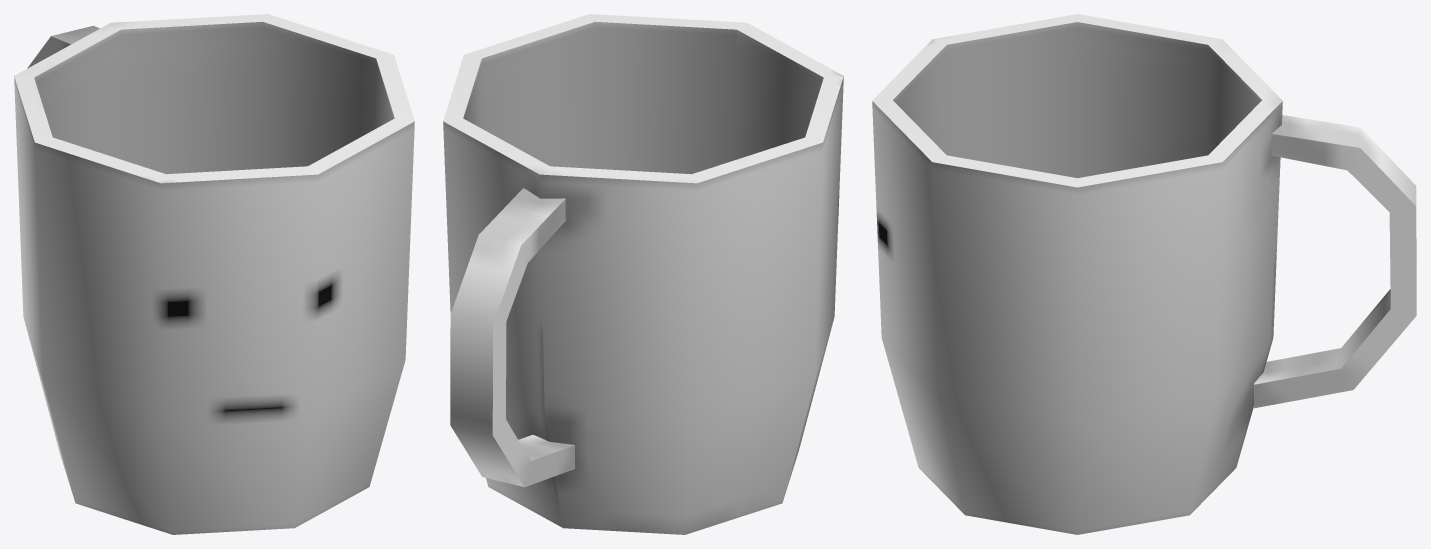
File: Cup_001_C.FBX
3 views of the same model, side by side, from view 1: azimuth 30°, elevation 25°; view 2: azimuth 150°, elevation 25°; view 3: azimuth 270°, elevation 25° (orthographic).
Parts seen in each view (by area): view 1: Cup_001_C; view 2: Cup_001_C; view 3: Cup_001_C.
Part boxes in pixels (x1=…): Cup_001_C: x1=14, y1=14, x2=414, y2=534; Cup_001_C: x1=443, y1=14, x2=843, y2=534; Cup_001_C: x1=872, y1=14, x2=1416, y2=534.
Size of the model in its own units: 10 by 13.26 by 9.88.
